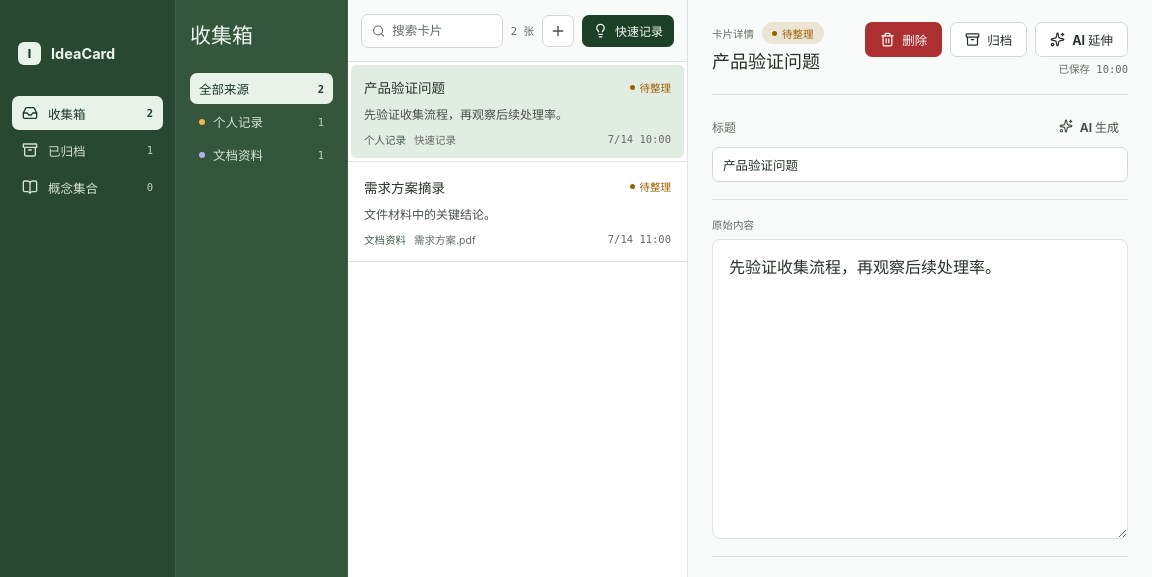
Test: InboxPage › switches between inbox and archive workspaces with separate counts and actions
The width and height of the screenshot is (1152, 577).
Expected: the text "产品验证问题" is shown, [364,80,445,96]
Expected: the text "已归档的旧想法" is not shown
Click the button "已归档 1" at {"x": 88, "y": 150}, box [12,133,163,167]
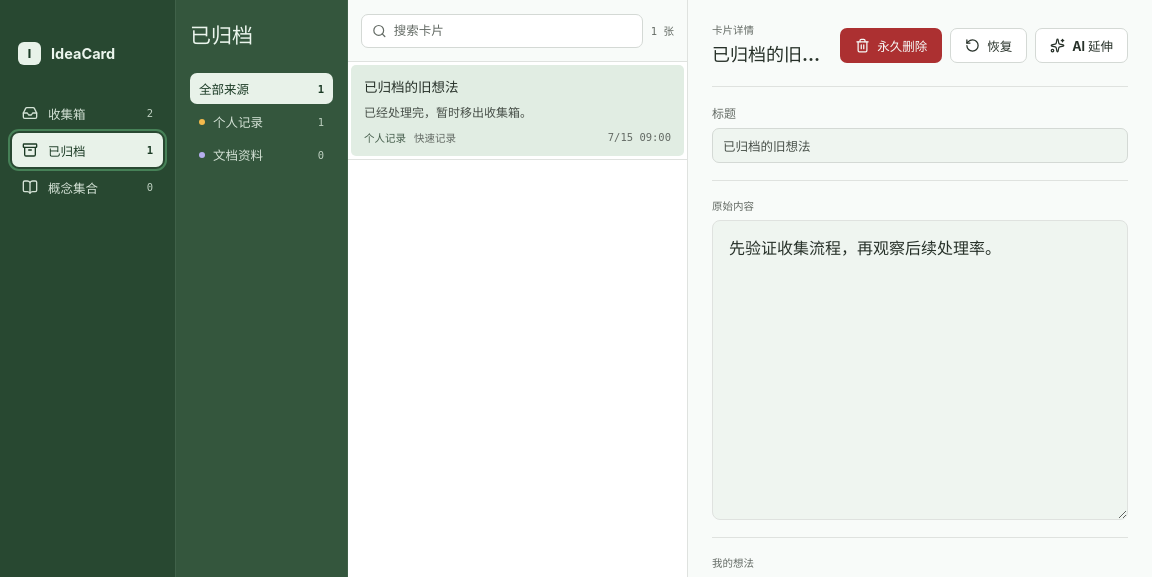
Result: the heading "已归档" is shown at [190,23,253,48]
Result: the text "已归档的旧想法" is shown at [364,79,458,95]
Result: the button "产品验证问题" is gone
